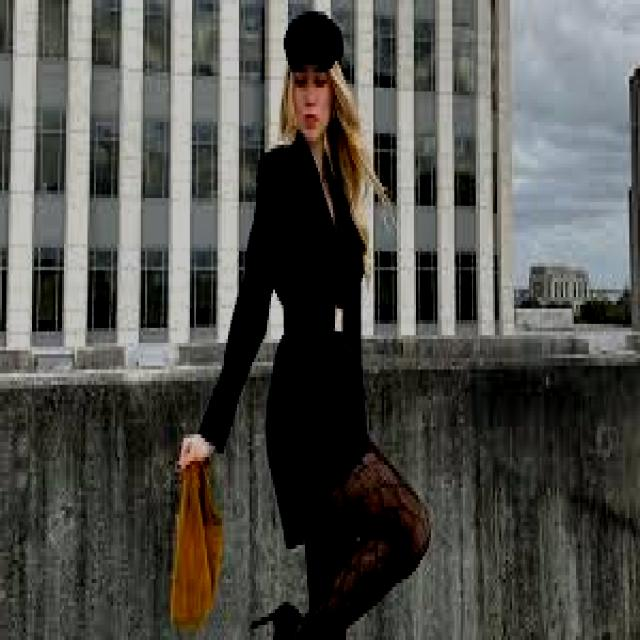dress: (200, 134, 370, 548)
hat: (283, 12, 342, 68)
